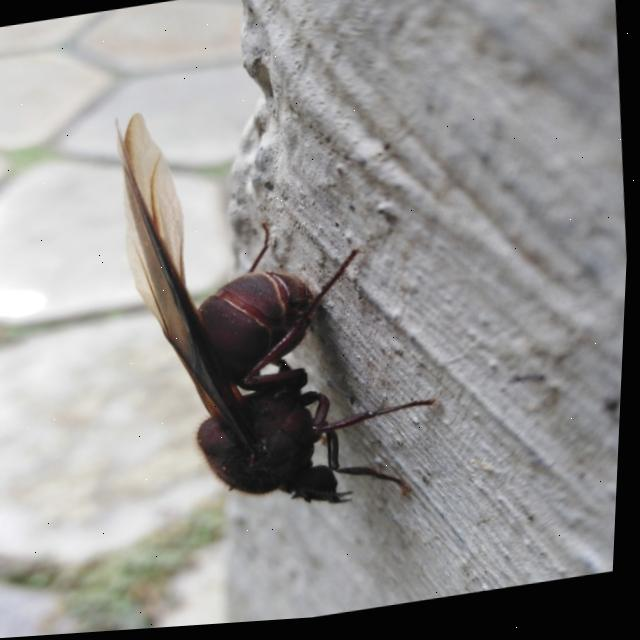Alive-Female-Alate: (99, 72, 462, 548)
